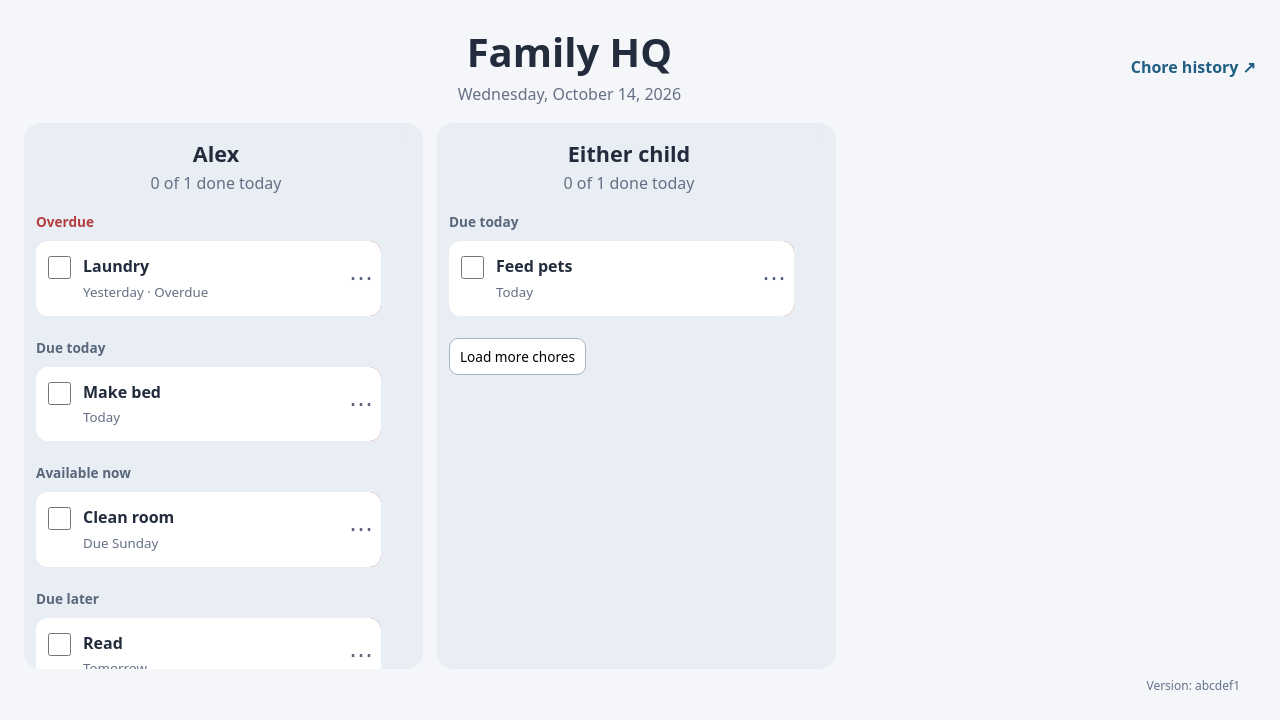
Test: Family HQ dashboard › reports a failed completion without claiming success
expect the text "Make bed" is shown: met, box [83,382,161,403]
What coordinates should you click on to do the following:
click the checkbox labelled "Make bed Today"
I would click on:
 (60, 393)
Its box is [48,382,71,405].
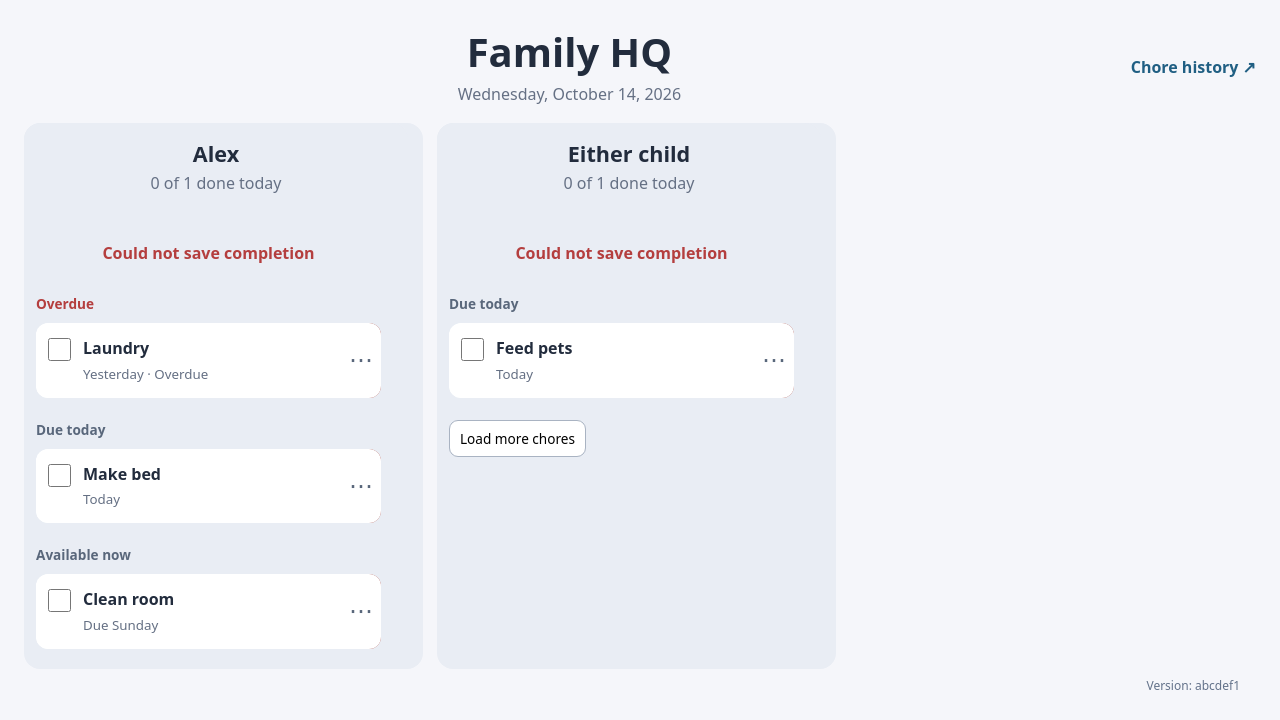
expect the checkbox labelled "Make bed Today" is not checked: met, box [48,464,71,487]
expect the message "Could not save completion" below "Alex" is shown: met, box [102,242,315,264]
